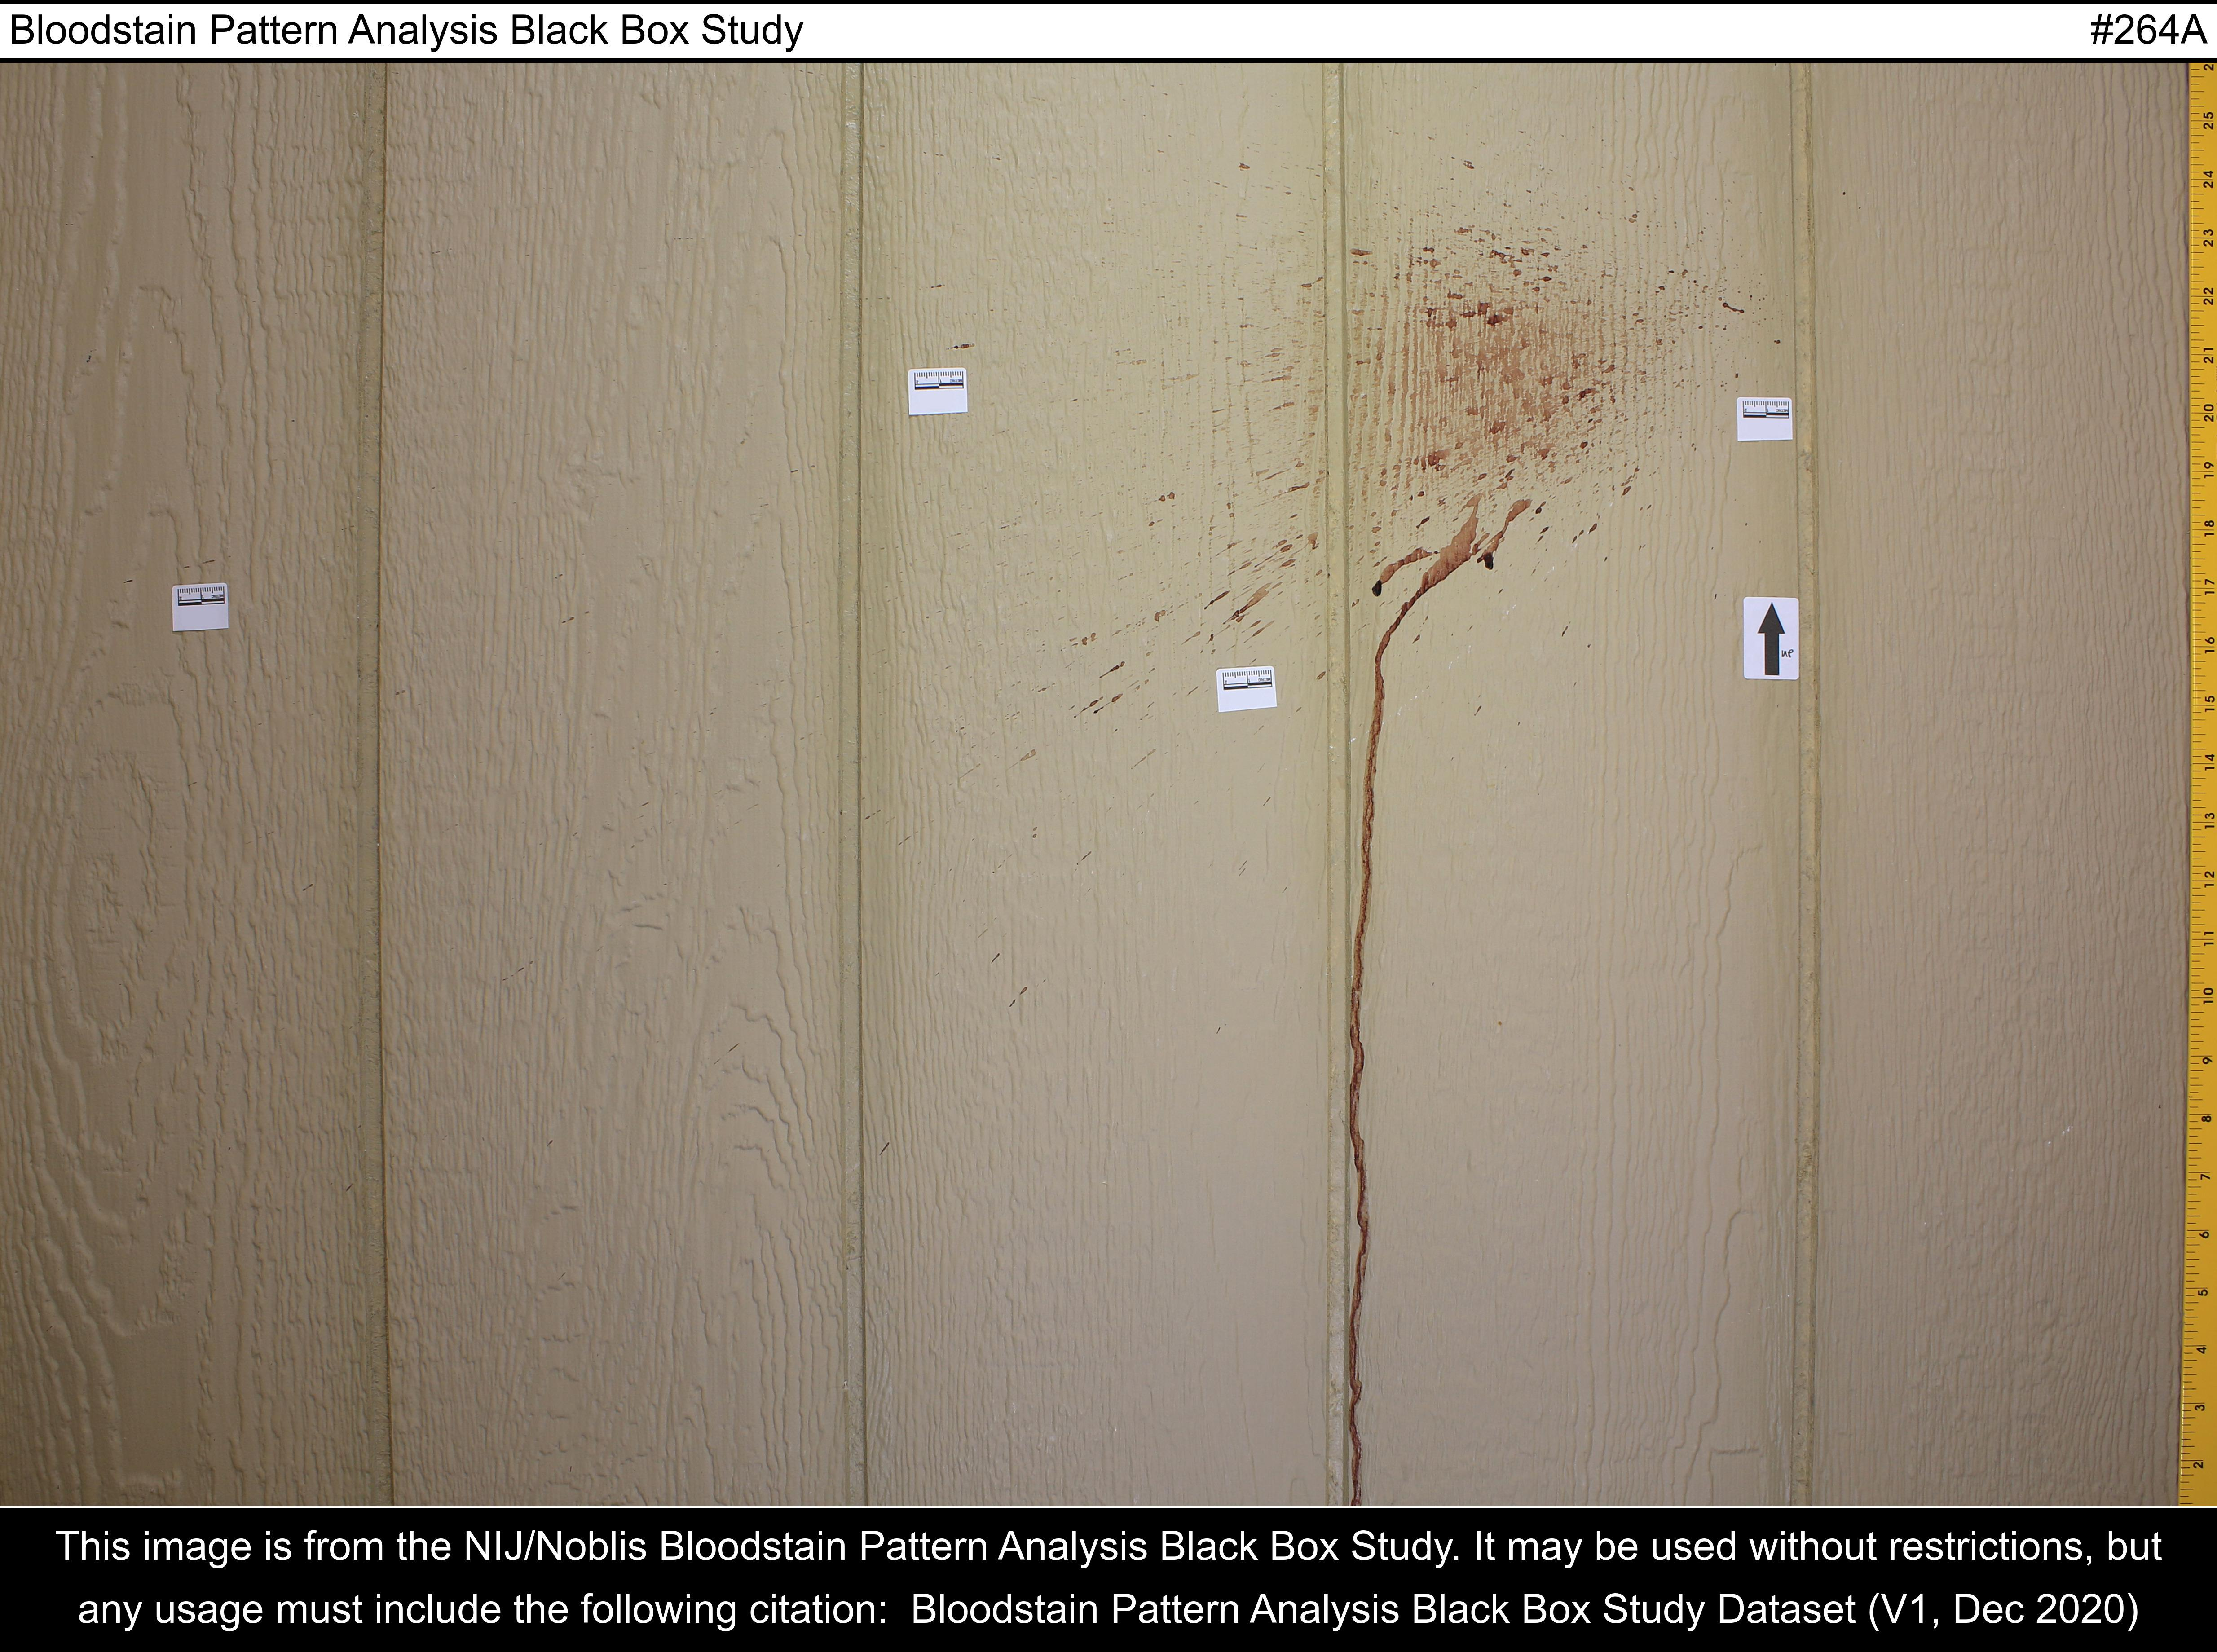Impact: (1211, 200, 1702, 1489)
